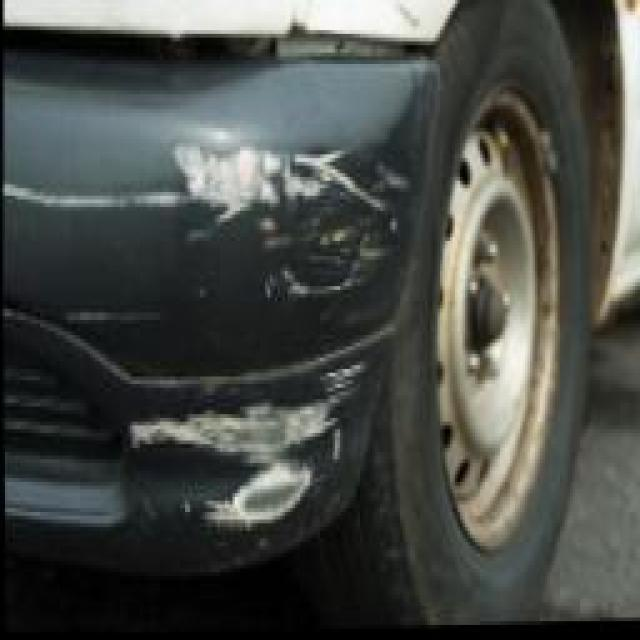Bumper: (60, 45, 429, 555)
